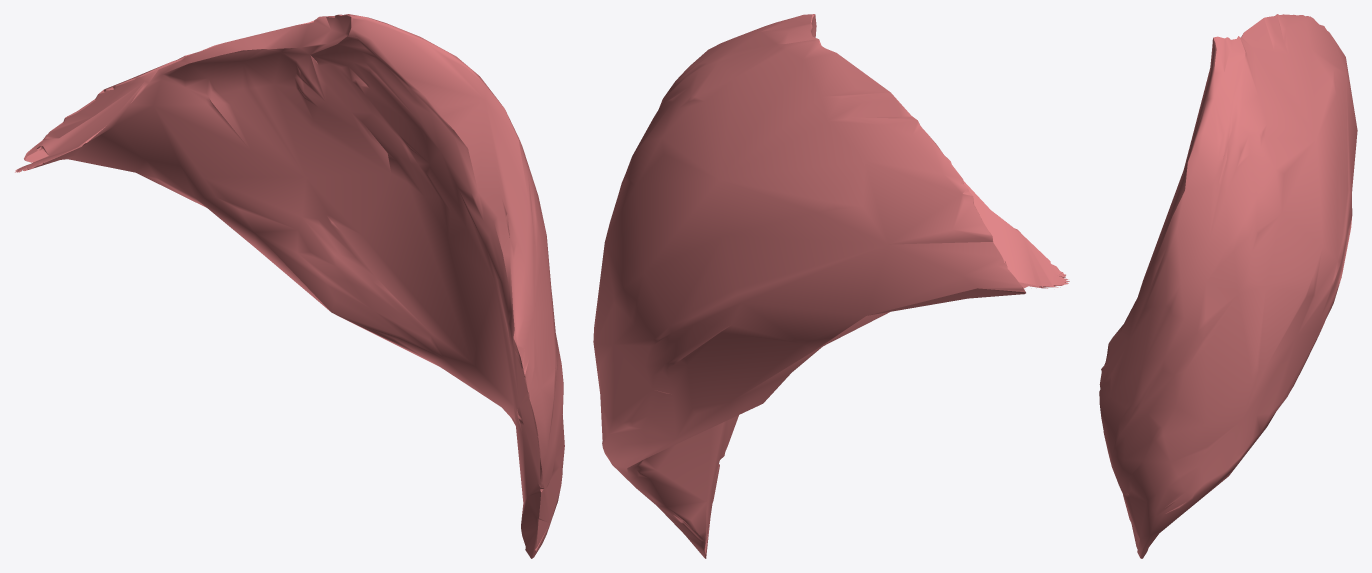
3 views of the same model, side by side, from view 1: azimuth 30°, elevation 25°; view 2: azimuth 150°, elevation 25°; view 3: azimuth 270°, elevation 25° (orthographic). The views are drawn at different scales.
Parts seen in each view (by area): view 1: FJ1513M; view 2: FJ1513M; view 3: FJ1513M.
Boxes of the visible parts, box(x1,y1,x2,y2) form: FJ1513M: box(15, 14, 564, 558); FJ1513M: box(593, 14, 1069, 558); FJ1513M: box(1099, 14, 1357, 558).
Size of the model in its own units: 0.1356 by 0.1513 by 0.0761.
